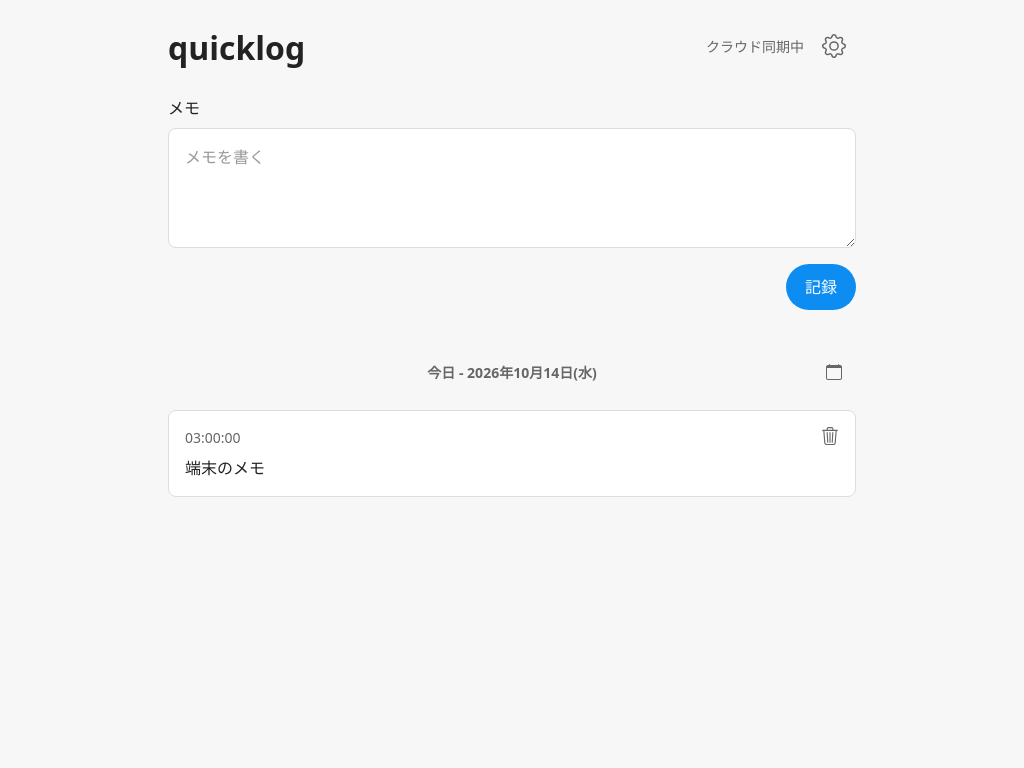
App: 認証状態と同期の接続 › 自動同期の予約中に手動同期すると予約を解除し、同期結果を表示・保存する
This screenshot has width=1024, height=768.
Step 1. Type "手動で同期するメモ" into the text box labelled "メモ" → (512, 188), box [168, 128, 856, 248]
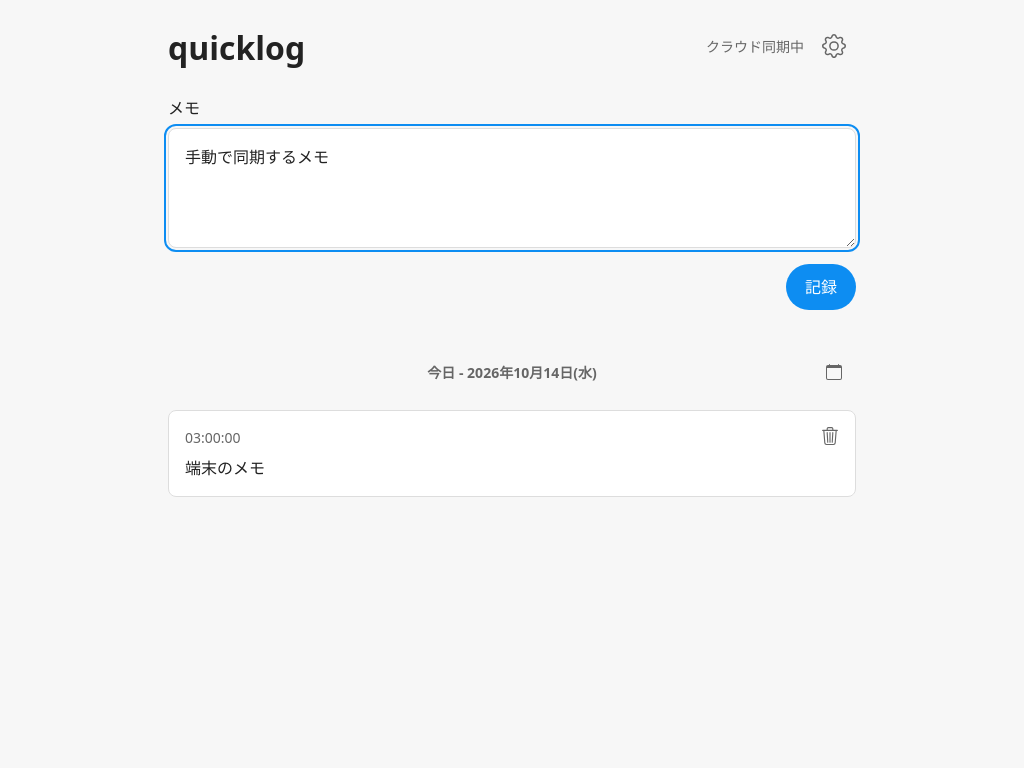
Step 2. Click the button "記録" → click(821, 287), box [786, 264, 856, 310]
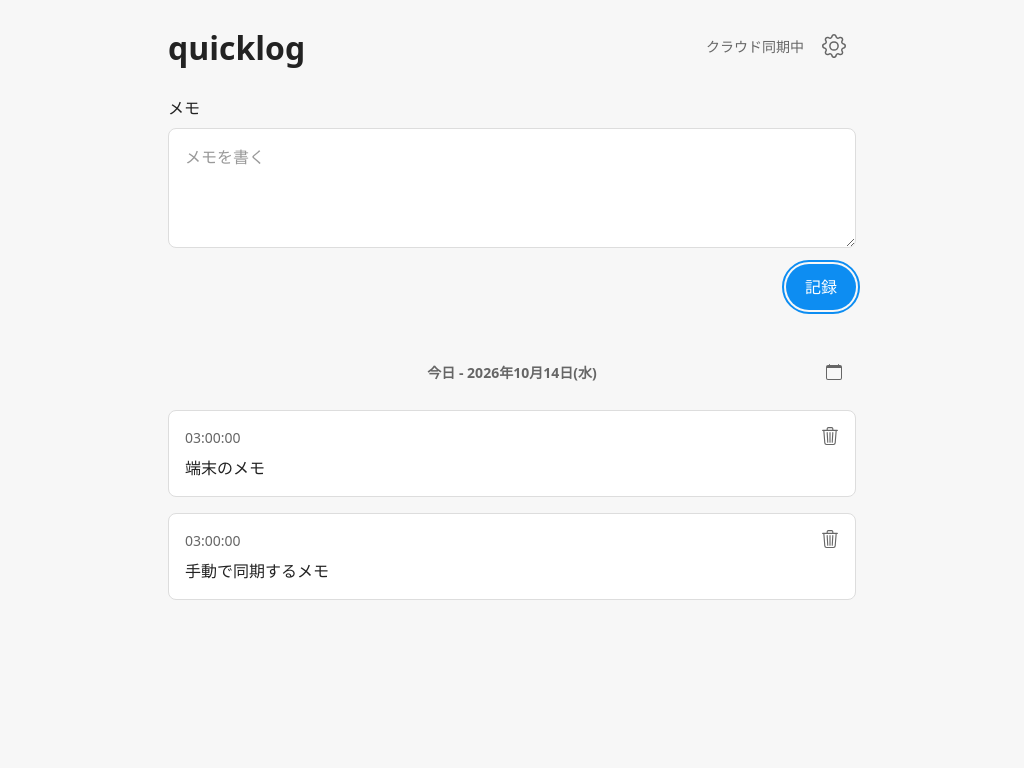
Step 3. Click the button named "設定" → click(834, 46), box [812, 24, 856, 68]
(page scrolled)
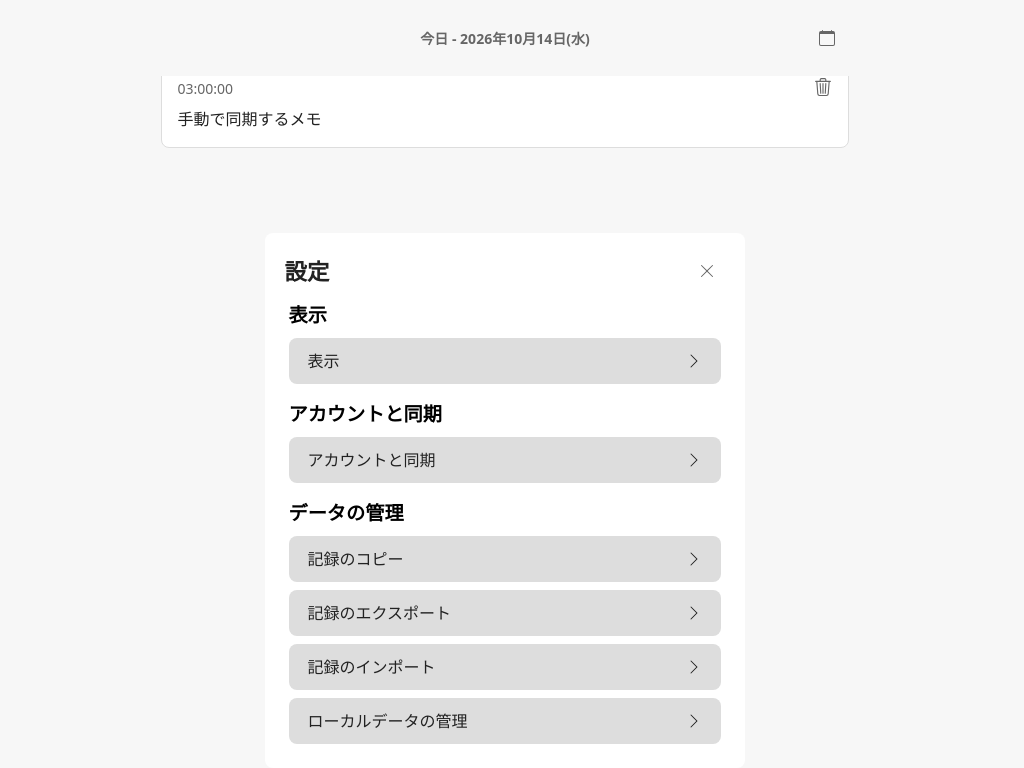
Step 4. Click the button "アカウントと同期" → click(372, 460), box [288, 437, 720, 483]
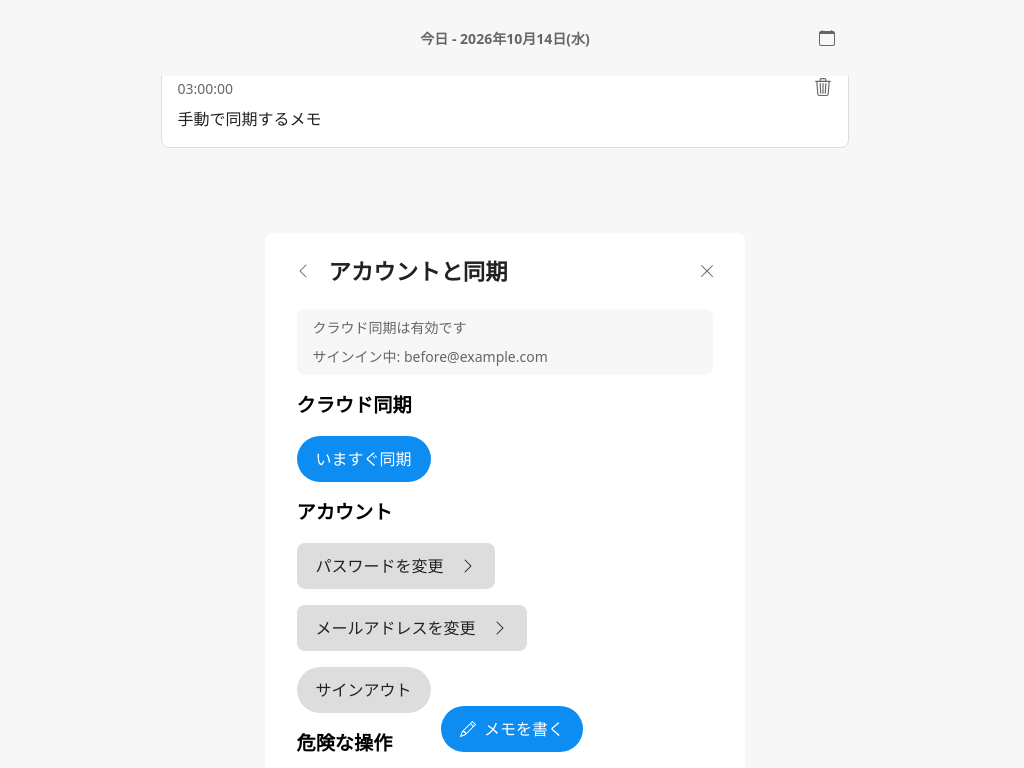
Step 5. Click the button "いますぐ同期" → click(364, 459), box [296, 436, 430, 482]
Wait 1000 ms
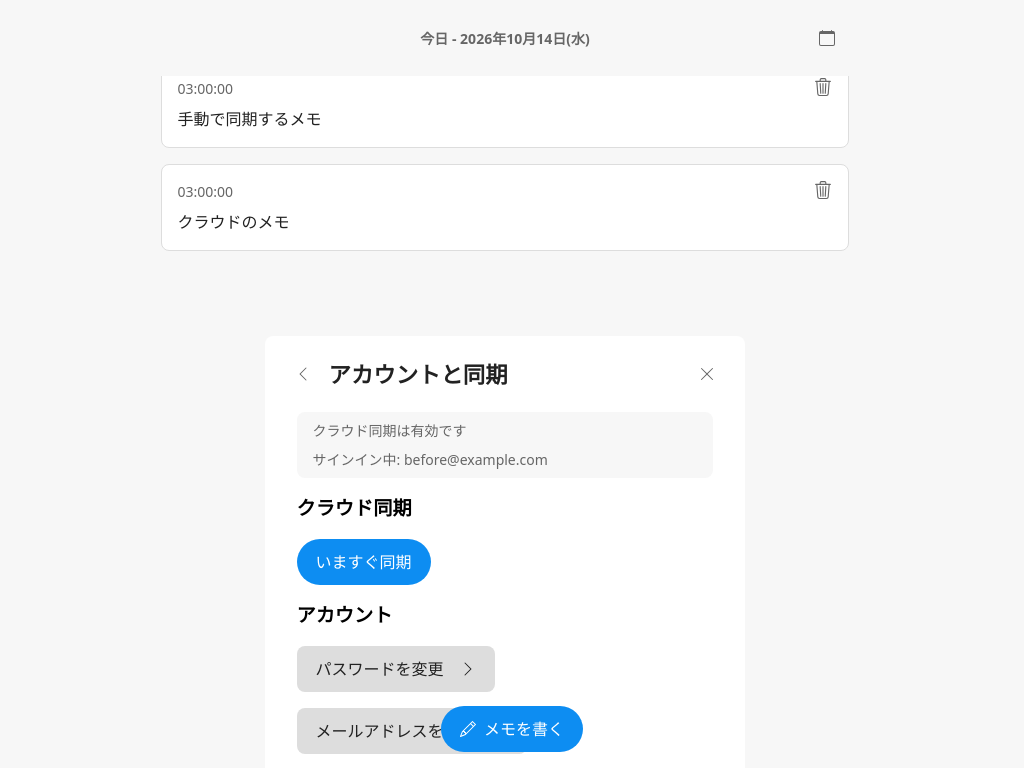
expect the text "クラウドのメモ" is shown: met, box [178, 211, 290, 233]
